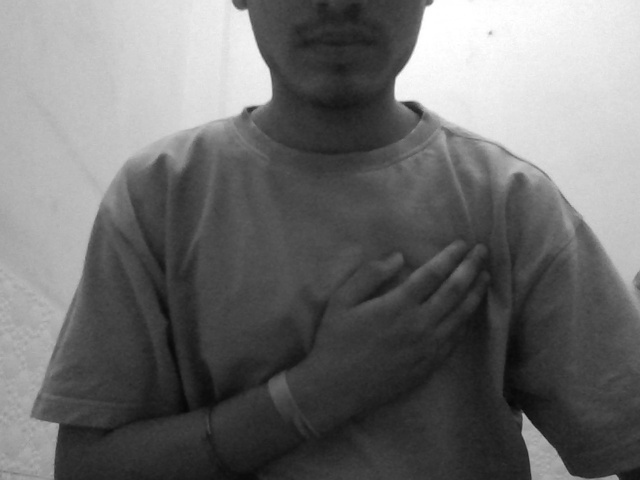Sorry: (282, 228, 523, 422)
